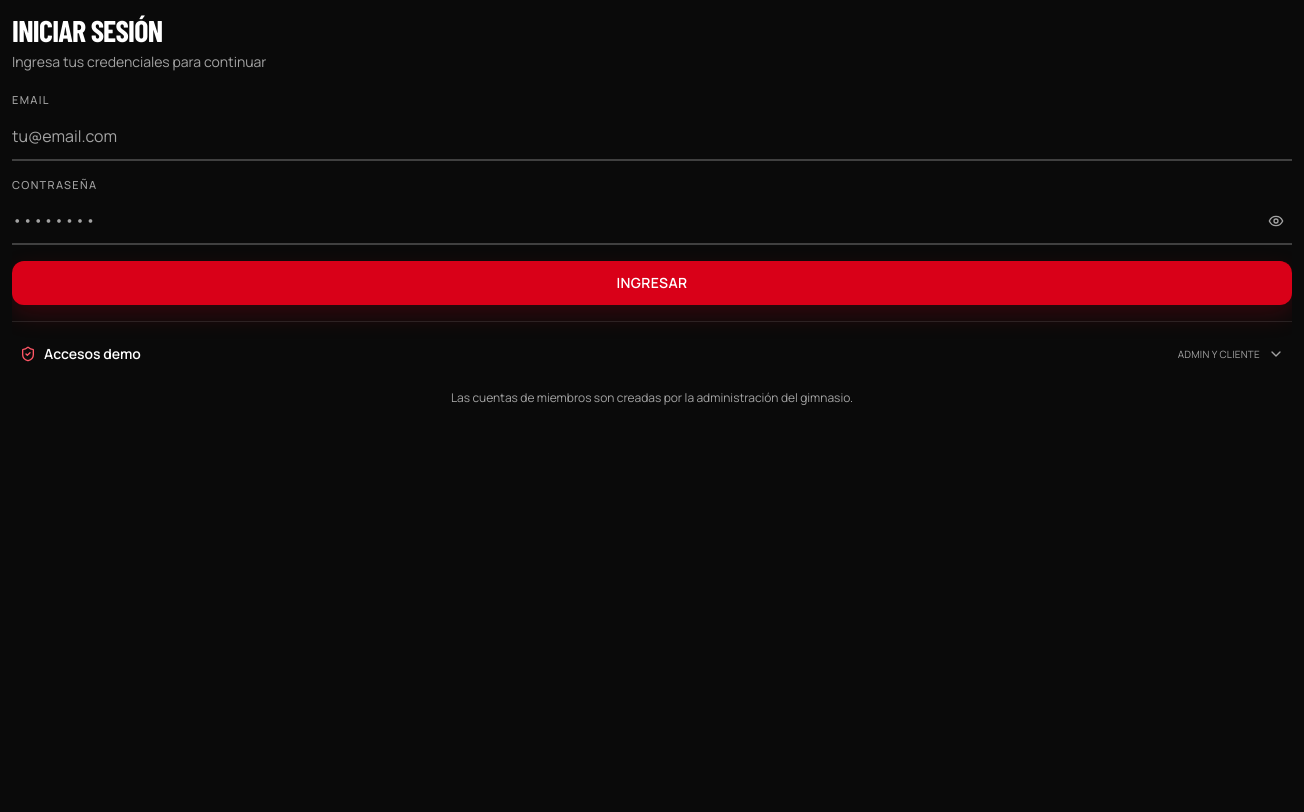
LoginPage › copia las credenciales demo y confirma la acción
Click the button "Accesos demo Admin y cliente". click: (92,354)
box: 12,334 -> 1292,374
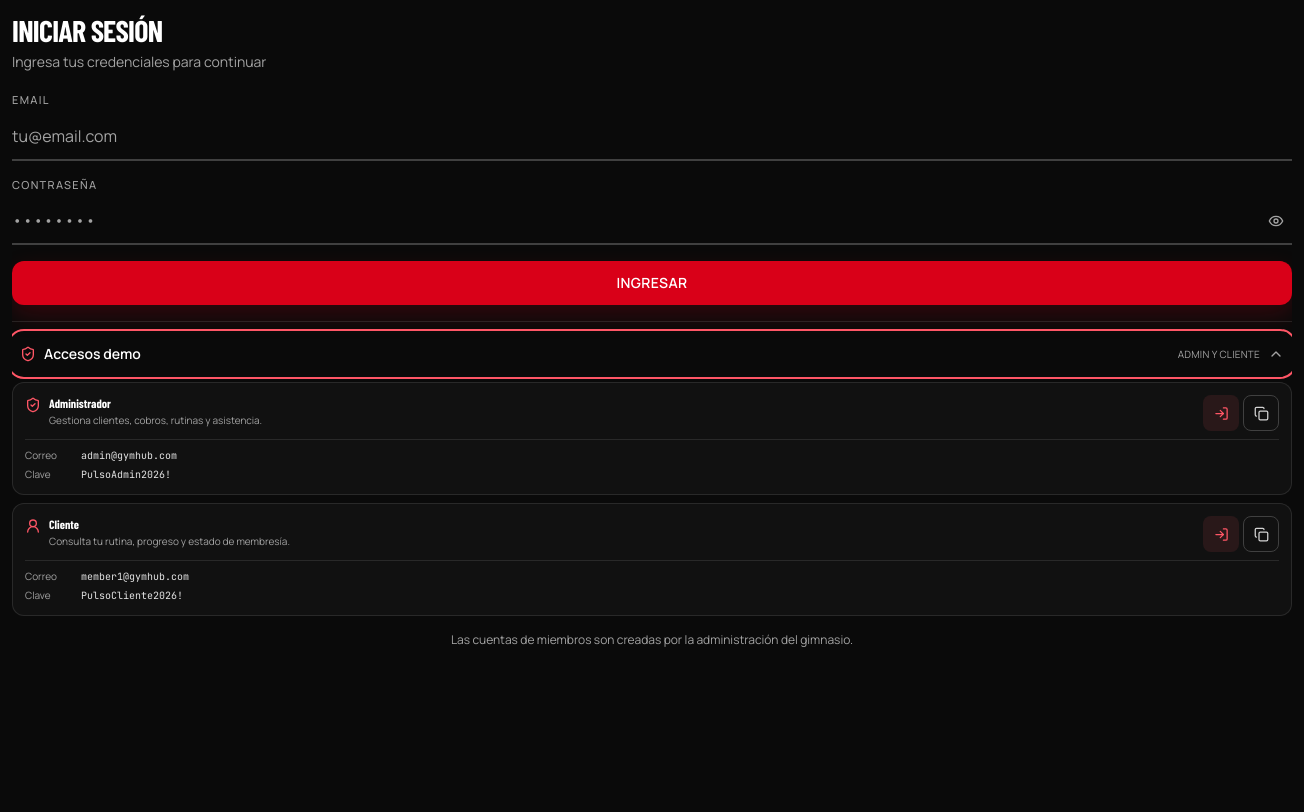
Click the button named "Copiar credenciales de administrador". click: (1261,413)
box: 1243,395 -> 1279,431
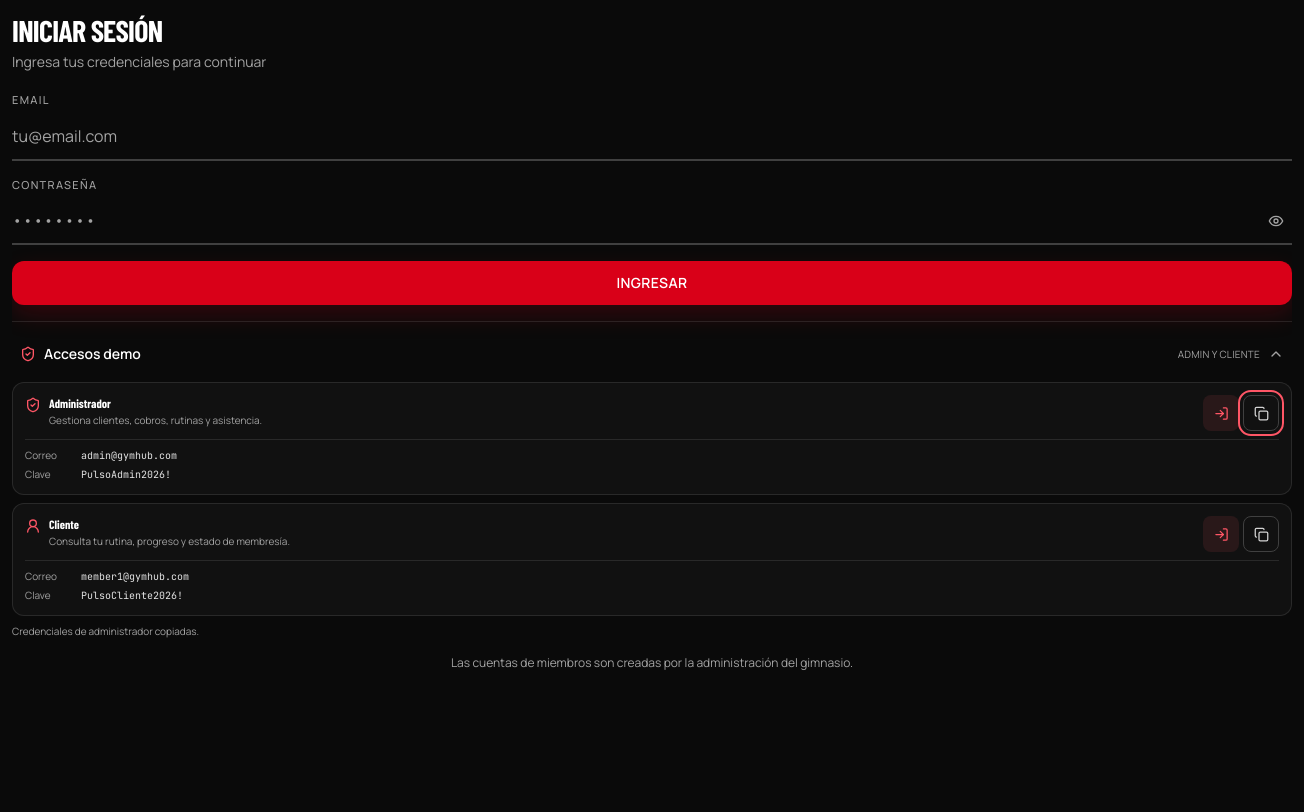
Result: the message reads "Credenciales de administrador copiadas." at 12,624 -> 199,638
